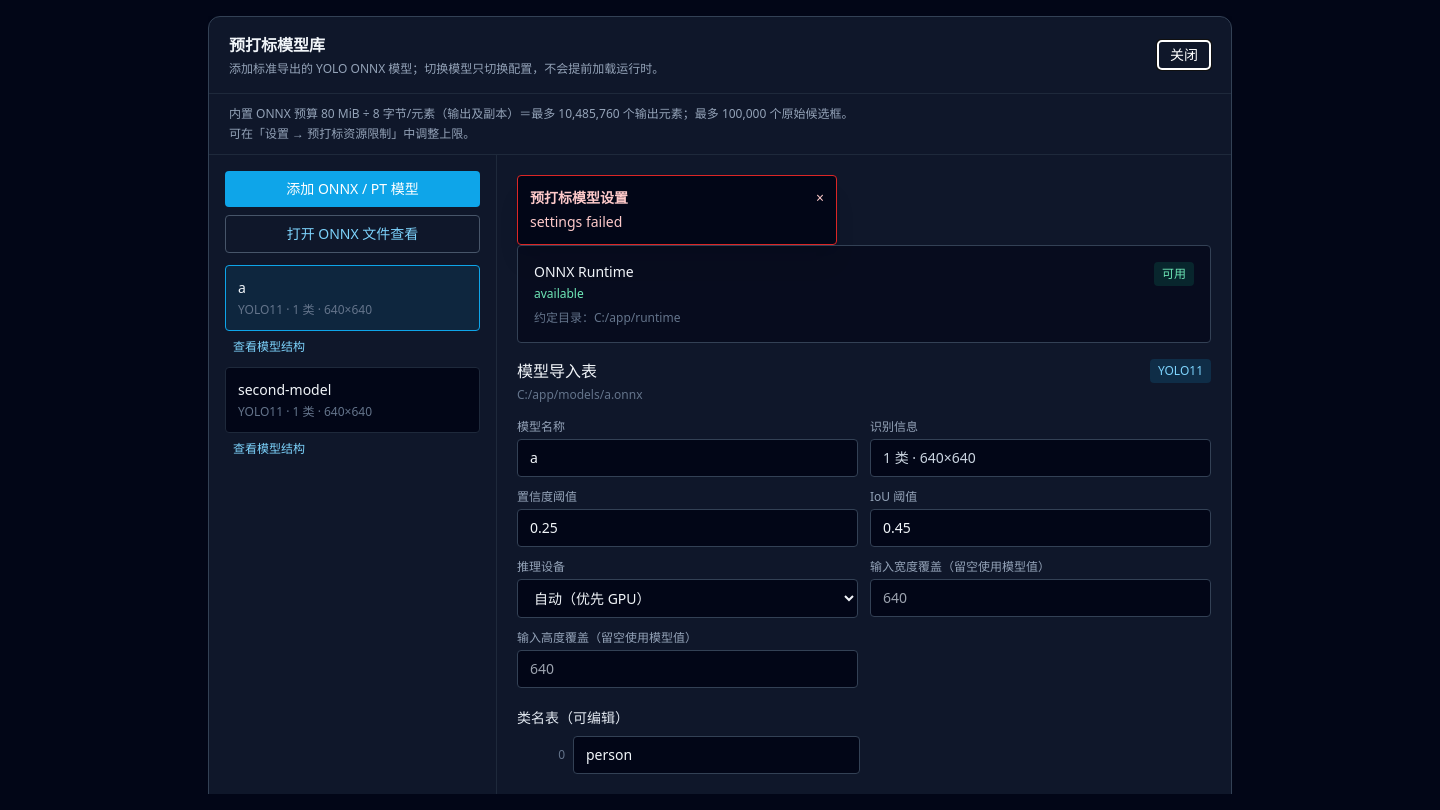
Test case: clears only settings failures when starting another settings action
Click the button "添加 ONNX / PT 模型" at (352, 189), box left=225, top=171, right=480, bottom=207
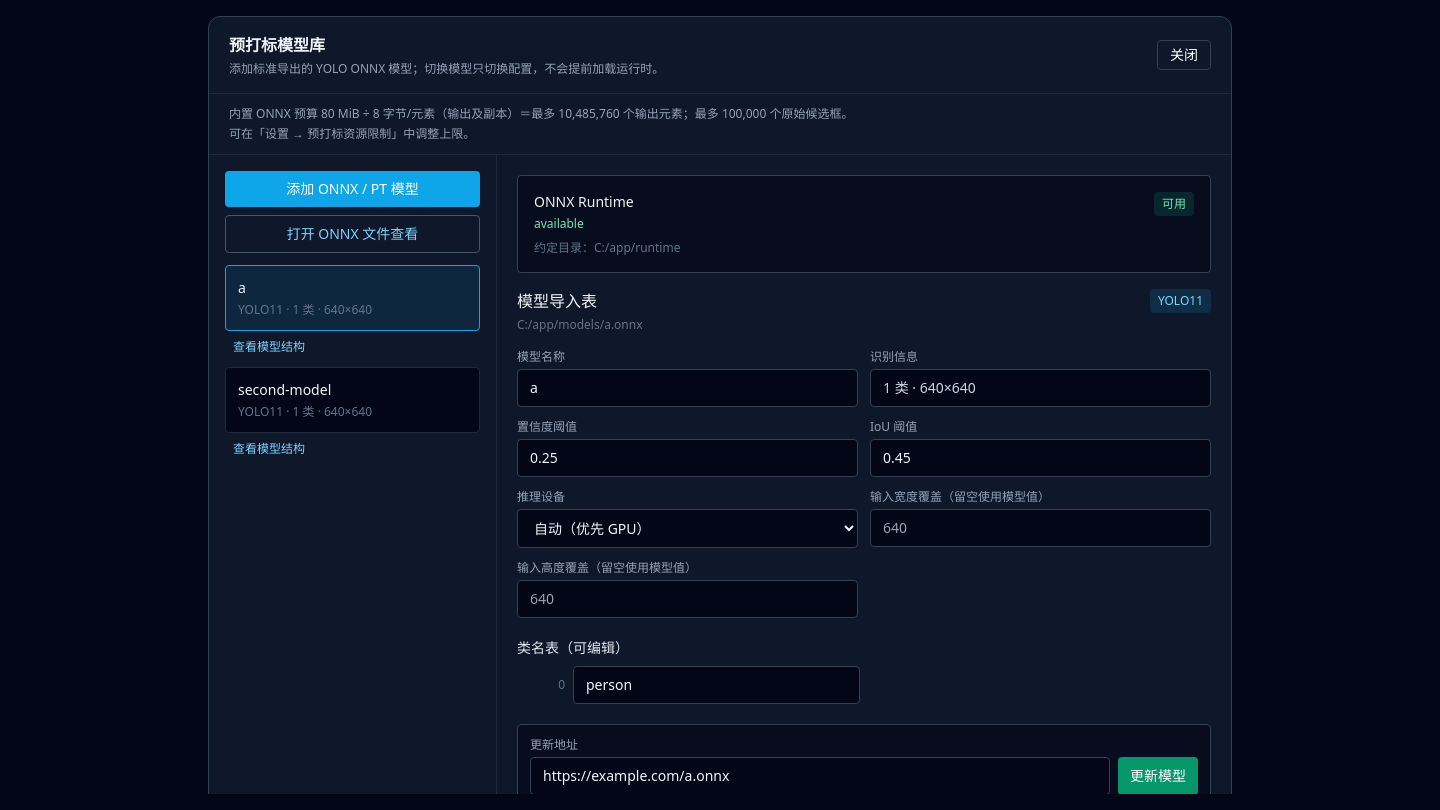
Now the text "settings failed" is gone
